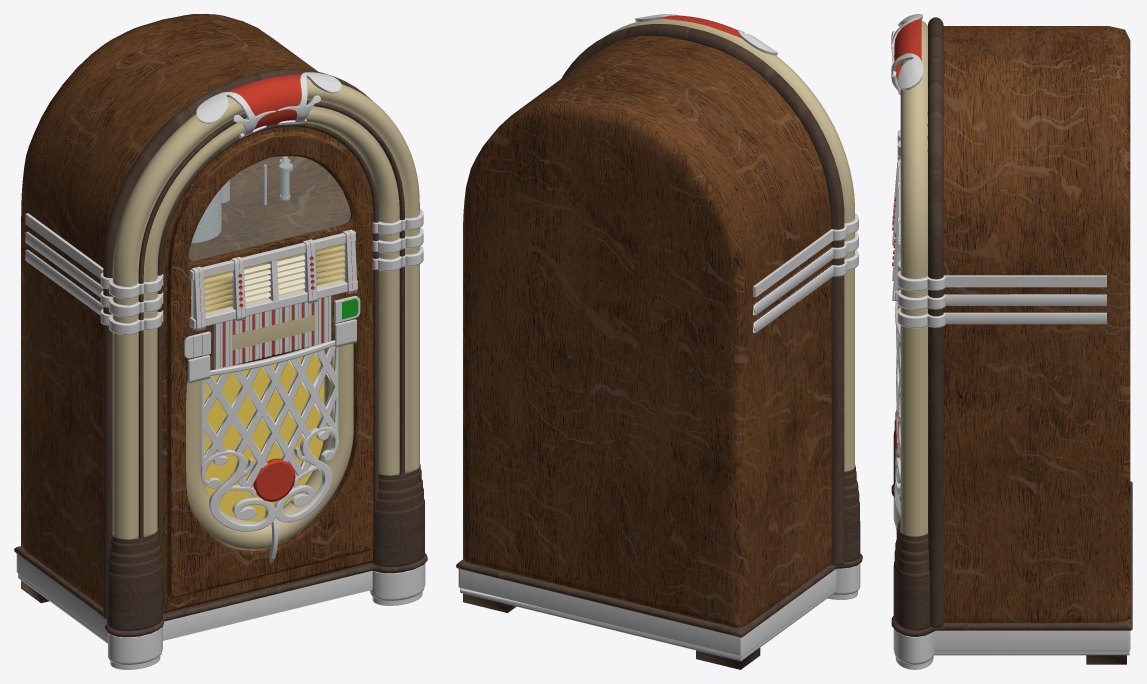
File: jukebox.glb
The picture shows the model from 3 angles, left to right: view 1: azimuth 30°, elevation 25°; view 2: azimuth 150°, elevation 25°; view 3: azimuth 270°, elevation 25°; orthographic projection. The views are drawn at different scales.
Visible parts, largest first — view 1: jukebox_outer, Object_14, Object_13, Object_11, metal, glass, metal.003, gold_plate, Object_12, red_details, metal.002, metal.001 (+1 smaller); view 2: jukebox_outer, Object_13, Object_12, Object_14, metal.003, Object_11, metal.001, metal.002; view 3: jukebox_outer, Object_13, Object_14, Object_11, Object_12, metal.001, metal.003, metal.002, red_details, metal.
Part boxes in pixels (x1,y1,x2,y2): jukebox_outer: [21, 14, 373, 613]; Object_14: [112, 78, 419, 550]; Object_13: [14, 69, 427, 637]; Object_11: [25, 72, 423, 640]; metal: [196, 206, 338, 531]; glass: [188, 156, 350, 260]; metal.003: [25, 92, 423, 562]; gold_plate: [191, 244, 342, 520]; Object_12: [16, 195, 357, 643]; red_details: [199, 73, 353, 501]; metal.002: [108, 319, 425, 669]; metal.001: [25, 213, 103, 278]; jukebox_outer: [463, 35, 831, 627]; Object_13: [456, 24, 862, 669]; Object_12: [458, 569, 836, 661]; Object_14: [605, 18, 854, 471]; metal.003: [737, 29, 858, 315]; Object_11: [635, 14, 833, 333]; metal.001: [753, 229, 833, 297]; metal.002: [827, 563, 860, 599]; jukebox_outer: [943, 26, 1130, 622]; Object_13: [891, 17, 1132, 664]; Object_14: [900, 20, 927, 536]; Object_11: [891, 53, 1106, 341]; Object_12: [892, 162, 1130, 655]; metal.001: [943, 275, 1106, 287]; metal.003: [891, 14, 945, 516]; metal.002: [893, 497, 933, 669]; red_details: [894, 18, 921, 457]; metal: [895, 327, 900, 496].
Bounding box in the file's own units: 92.06 × 152 × 59.55.
Materials: 8 (2 with a texture image).
